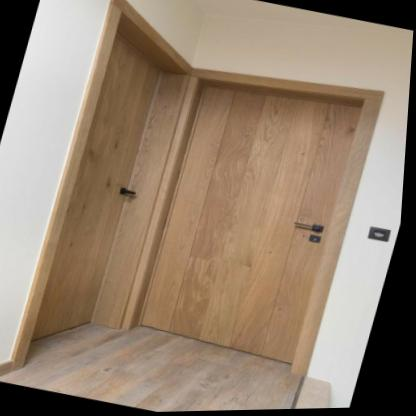Wooden floor: (0, 323, 335, 413)
